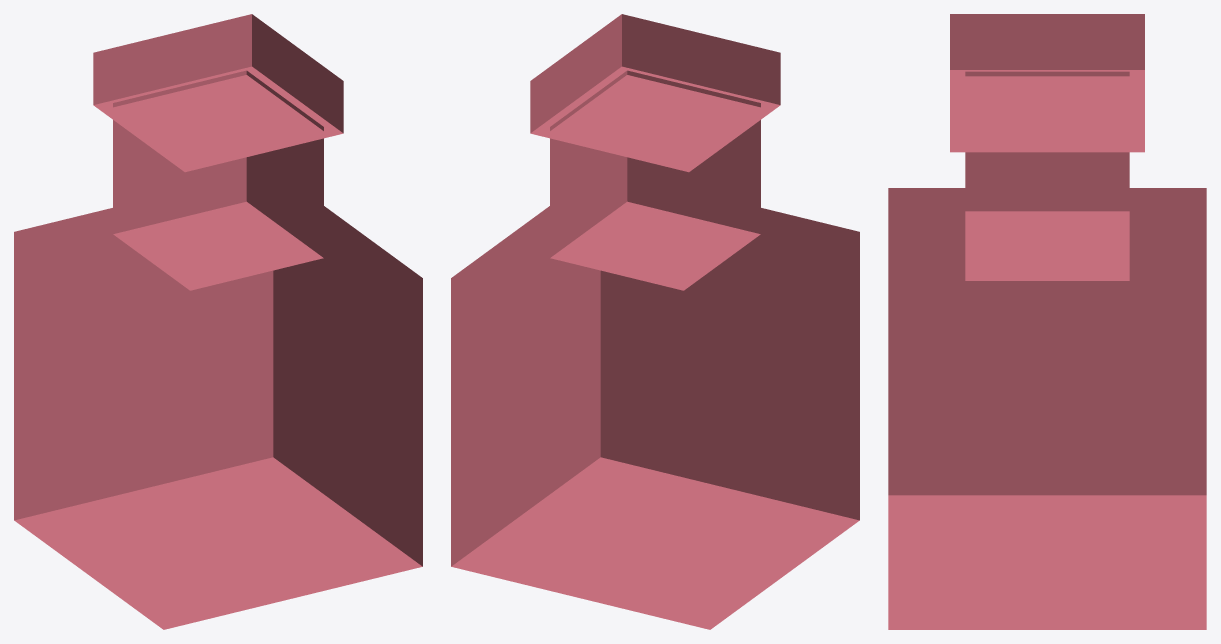
The model's file is potion.gltf.
3 views of the same model, side by side, from view 1: azimuth 30°, elevation 25°; view 2: azimuth 150°, elevation 25°; view 3: azimuth 270°, elevation 25° (orthographic). The views are drawn at different scales.
Visible parts, largest first — view 1: Potion; view 2: Potion; view 3: Potion.
Part boxes in pixels (bbox=[...]): Potion: bbox=[14, 14, 422, 629]; Potion: bbox=[451, 14, 859, 629]; Potion: bbox=[888, 14, 1206, 629].
Bounding box in the file's own units: 0.62 × 1.09 × 0.62.
